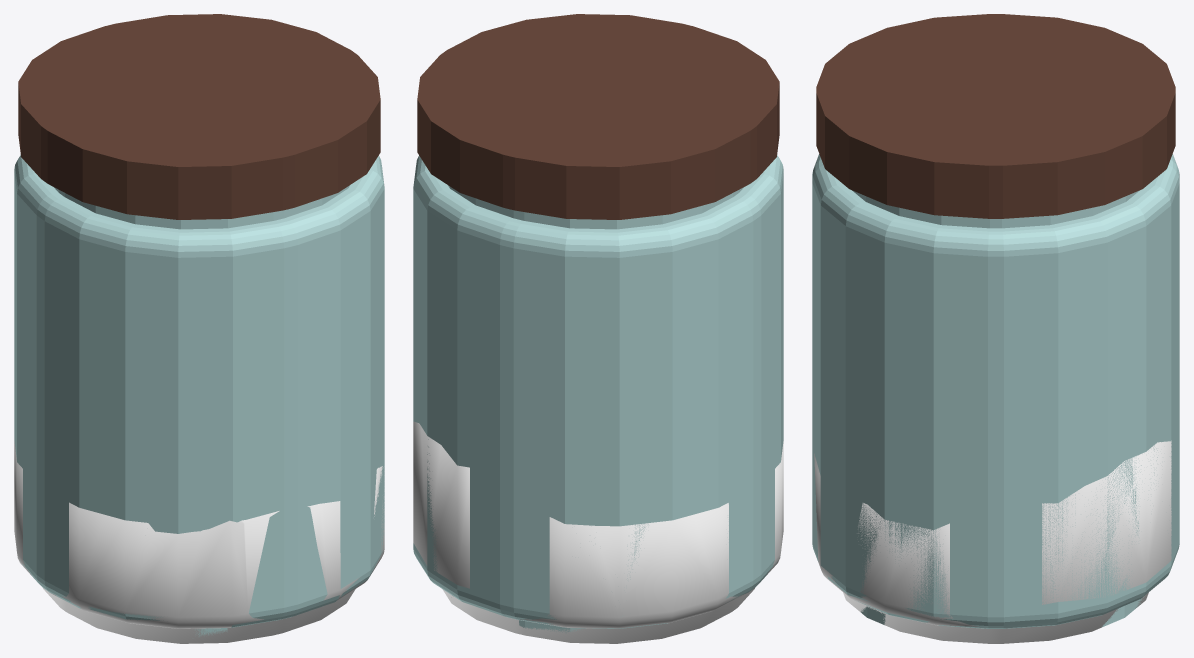
Rendered from whitepowder.glb.
3 views of the same model, side by side, from view 1: azimuth 30°, elevation 25°; view 2: azimuth 150°, elevation 25°; view 3: azimuth 270°, elevation 25° (orthographic).
Visible parts, largest first — view 1: Cube-col, Cube.001; view 2: Cube-col, Cube.001; view 3: Cube-col, Cube.001.
Part boxes in pixels (<box>): Cube-col: <box>14,14,384,636</box>; Cube.001: <box>14,441,384,643</box>; Cube-col: <box>413,14,783,633</box>; Cube.001: <box>413,421,783,643</box>; Cube-col: <box>812,14,1179,628</box>; Cube.001: <box>814,440,1171,643</box>.
Bounding box in the file's own units: 3.11 × 4.55 × 3.11.
